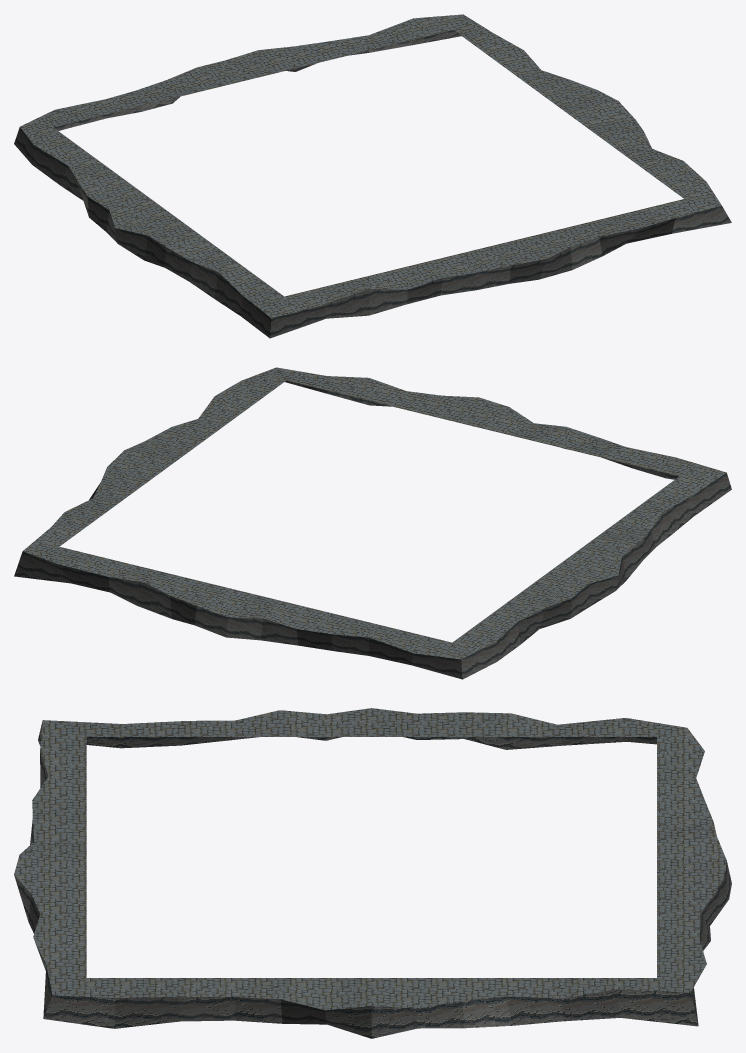
Rendered from entorno_16.fbx.
3 views of the same model, one above another, from view 1: azimuth 30°, elevation 25°; view 2: azimuth 150°, elevation 25°; view 3: azimuth 270°, elevation 25° (orthographic). The views are drawn at different scales.
Visible parts, largest first — view 1: pedreira_entorno_16; view 2: pedreira_entorno_16; view 3: pedreira_entorno_16.
Boxes of the visible parts, x1,y1,x2,y2 form: pedreira_entorno_16: (14,14,731,338); pedreira_entorno_16: (14,367,731,679); pedreira_entorno_16: (14,708,731,1038).
Bounding box in the file's own units: 2059 × 107 × 2039.
Materials: 2 (2 with a texture image).
